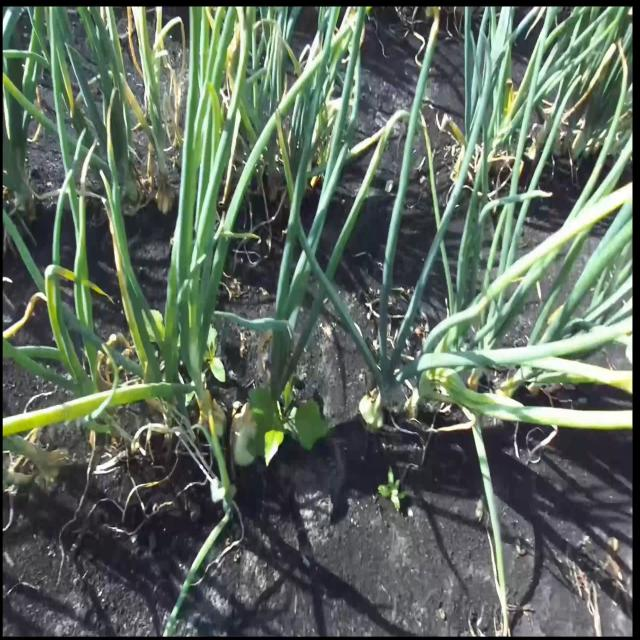onion: (228, 402, 267, 472)
